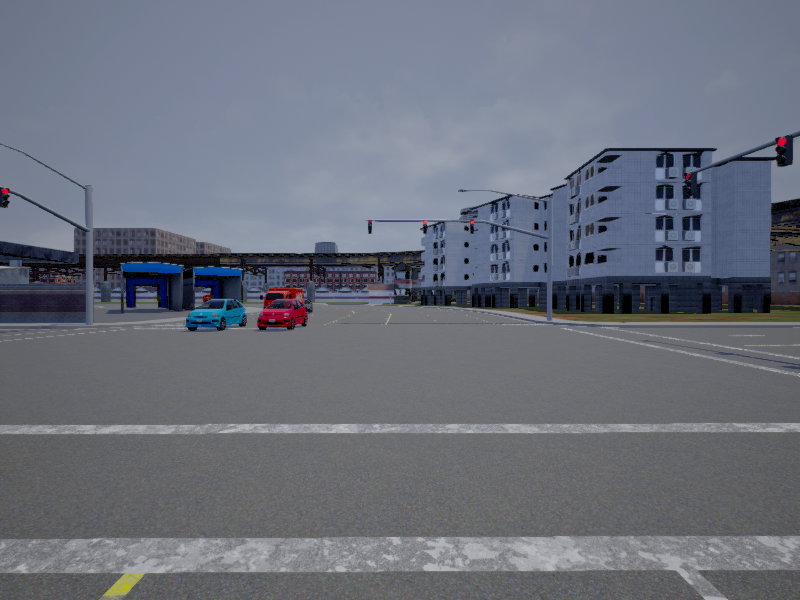Benign: (187, 296, 247, 331), (260, 302, 307, 330), (264, 290, 305, 318)
